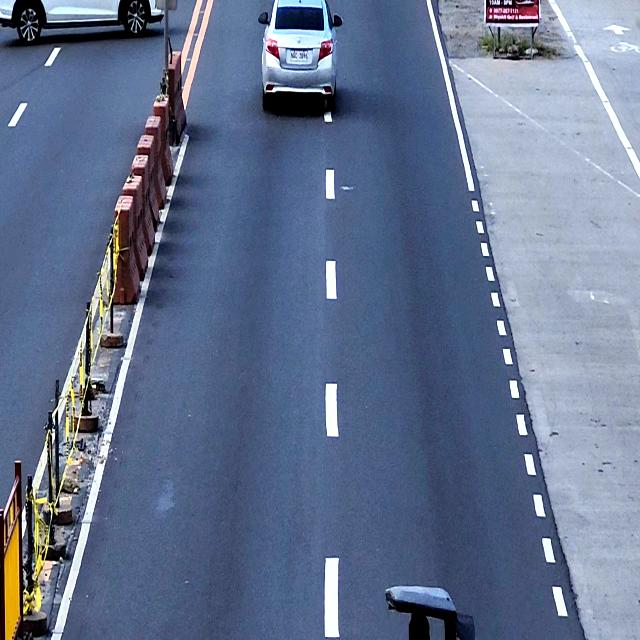Car: (258, 0, 344, 113), (0, 0, 164, 47)
License-Plate: (291, 50, 308, 64)
Tricycle: (384, 585, 478, 640)
